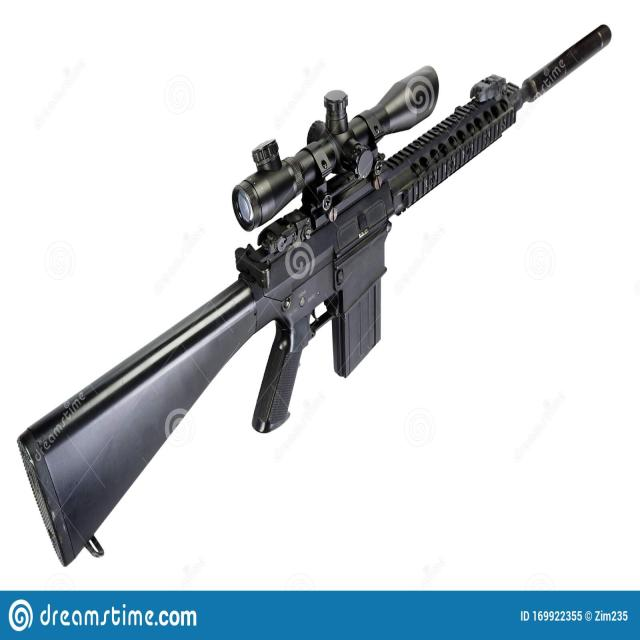Rifle: (16, 26, 613, 567)
